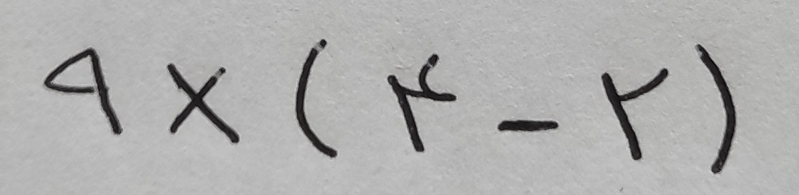character: (42, 44, 123, 139), (388, 51, 458, 153), (166, 59, 242, 146), (601, 66, 669, 160), (693, 43, 738, 175), (295, 37, 338, 160), (496, 117, 559, 134)
